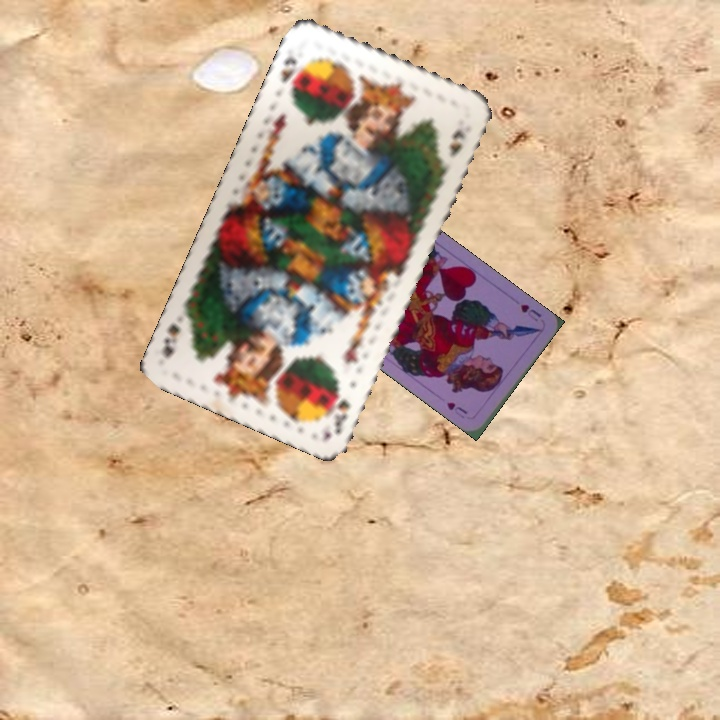HU: (516, 300, 544, 325)
SK: (277, 52, 307, 99), (330, 395, 353, 437)
